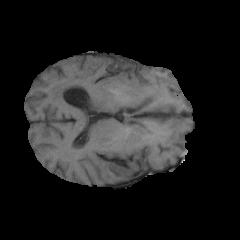glioma: (51, 59, 162, 111)
